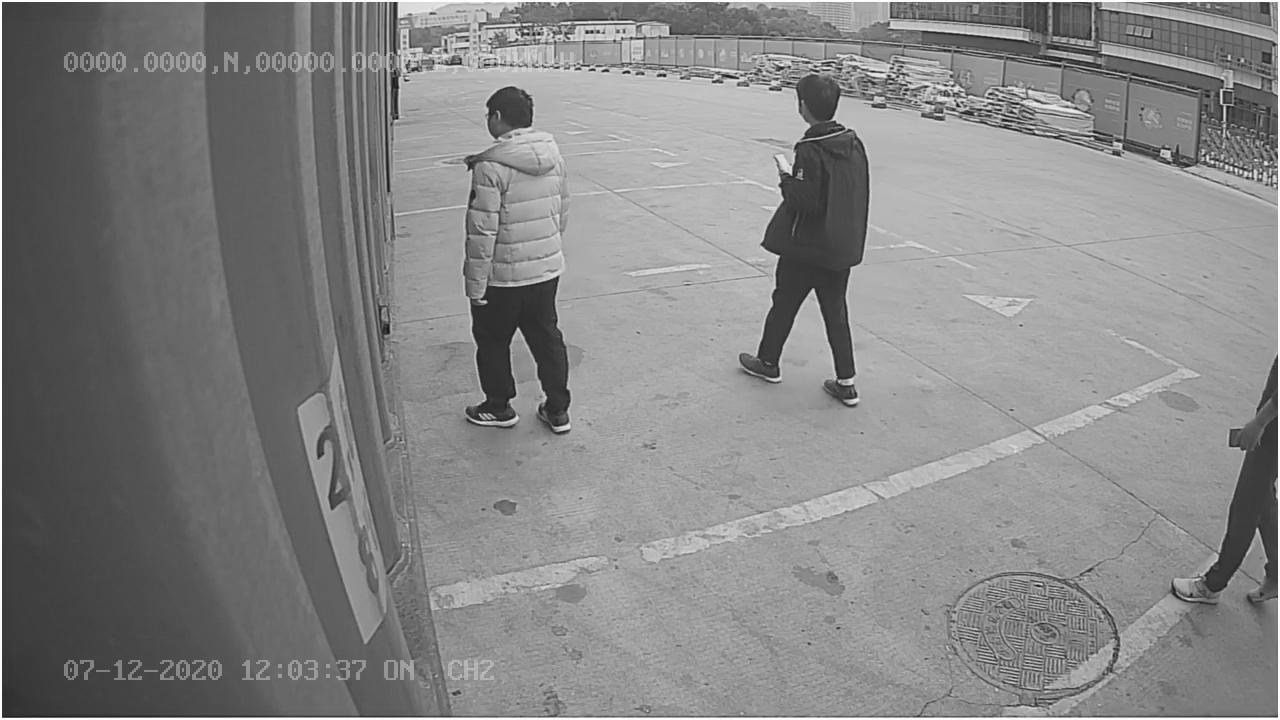person: (725, 67, 874, 408), (448, 80, 580, 434)
